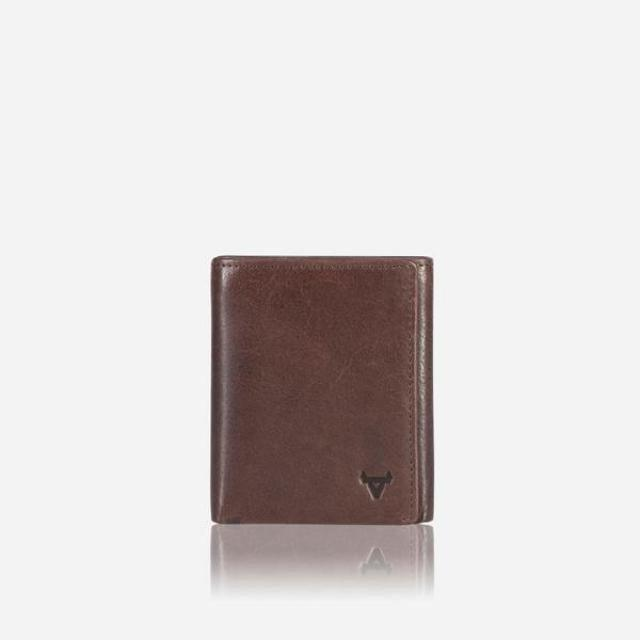Wallet: (206, 248, 438, 530)
